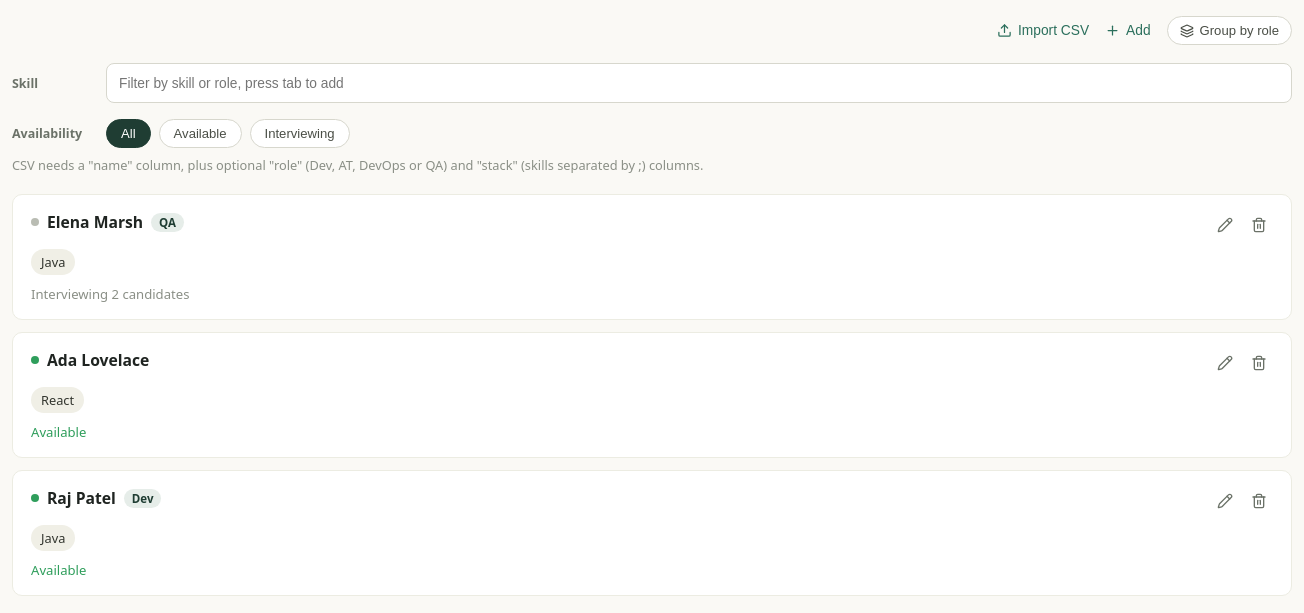
Test: InterviewersTab grouping › expands and collapses a group from its heading
The width and height of the screenshot is (1304, 613).
Click the button "Group by role" at (1229, 30), box x1=1167 y1=16 x2=1292 y2=45
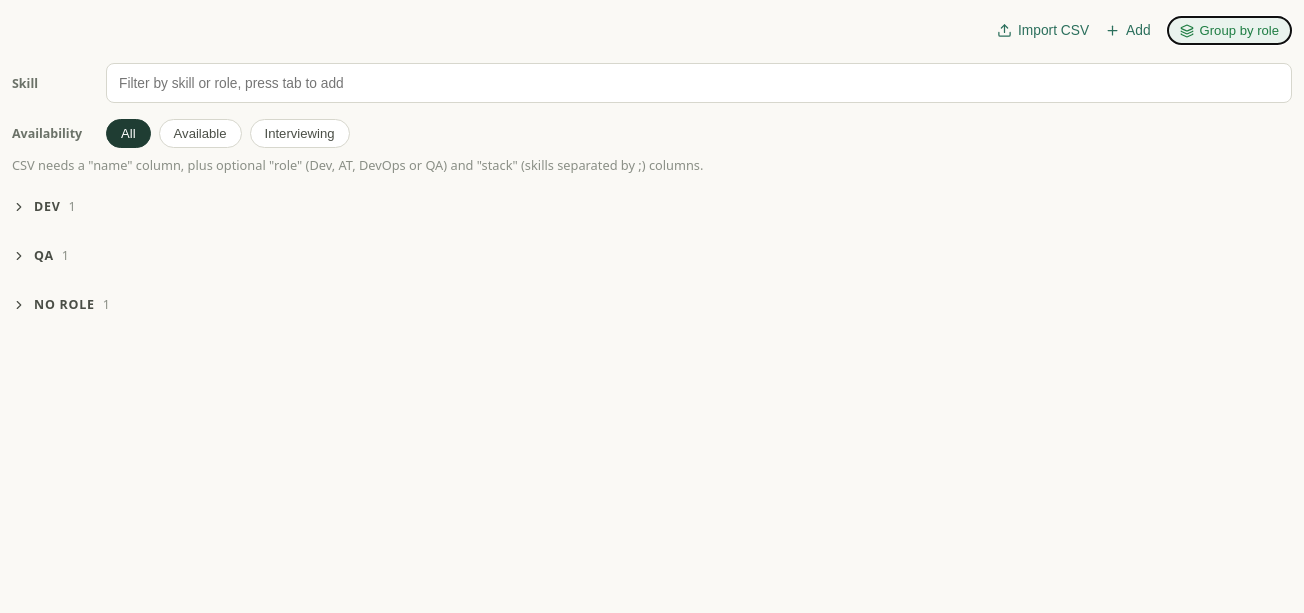
Click the button "Dev 1" at (19, 206), box x1=12 y1=194 x2=1292 y2=219
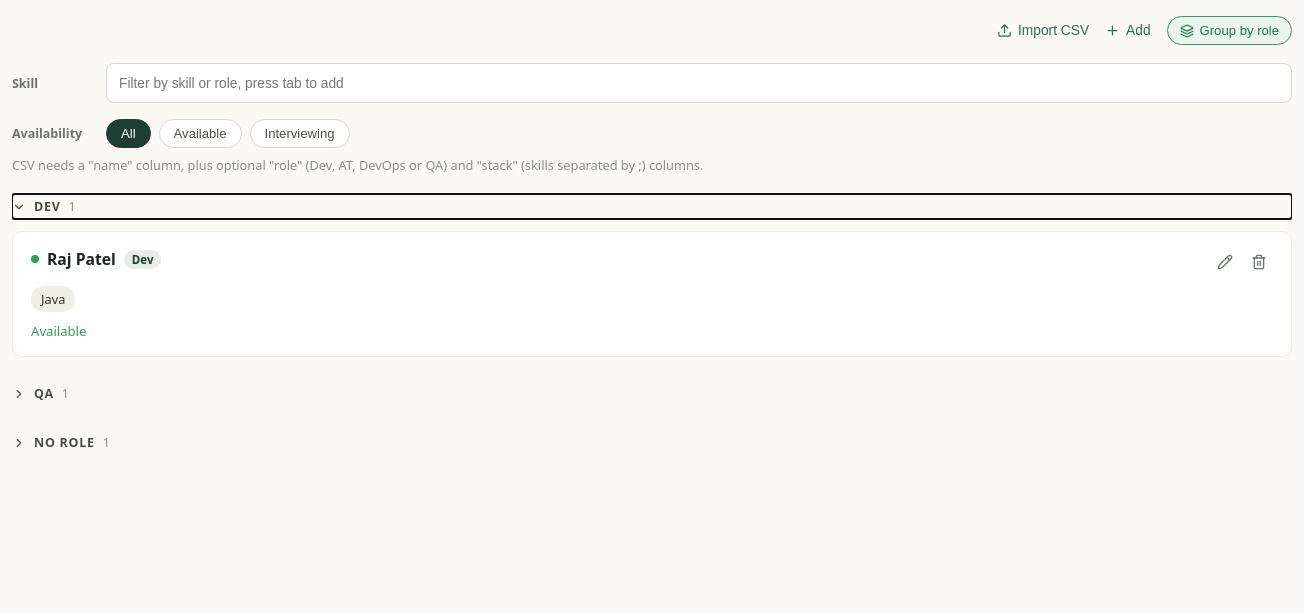
expect the heading "Ada Lovelace" is not shown: met
expect the button "Dev 1" is expanded: met
expect the heading "Raj Patel" is shown: met, box x1=47 y1=248 x2=116 y2=270
Click the button "Dev 1" at (19, 206), box x1=12 y1=194 x2=1292 y2=219
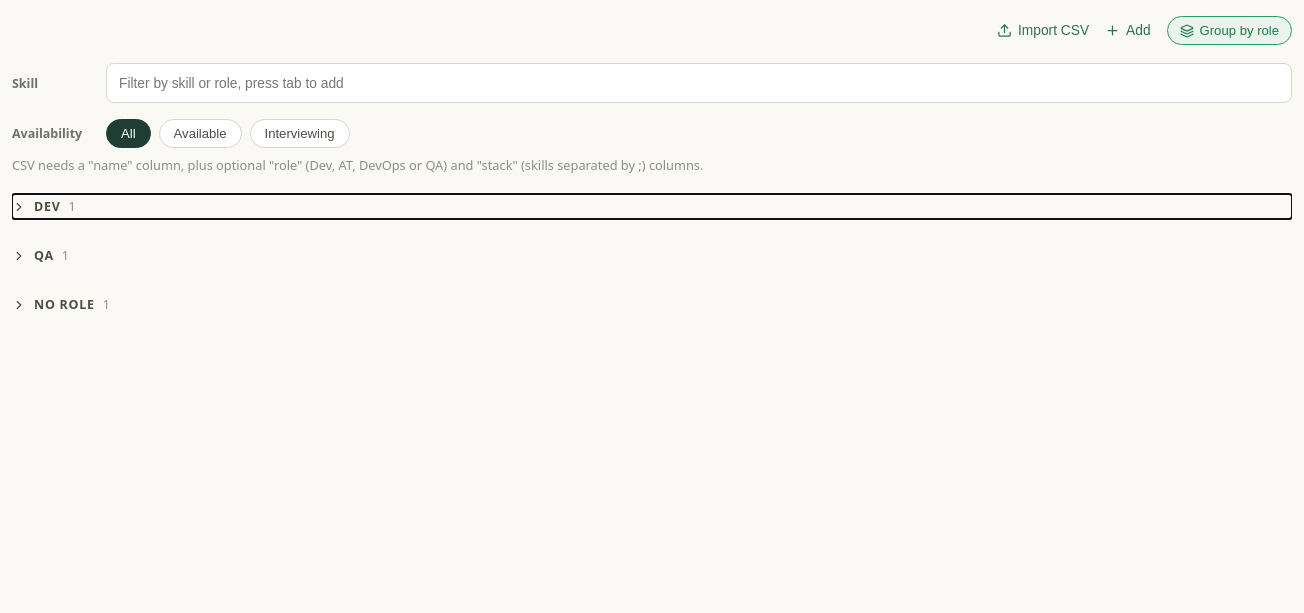
expect the button "Dev 1" is collapsed: met, box x1=12 y1=194 x2=1292 y2=219
expect the heading "Raj Patel" is gone: met
